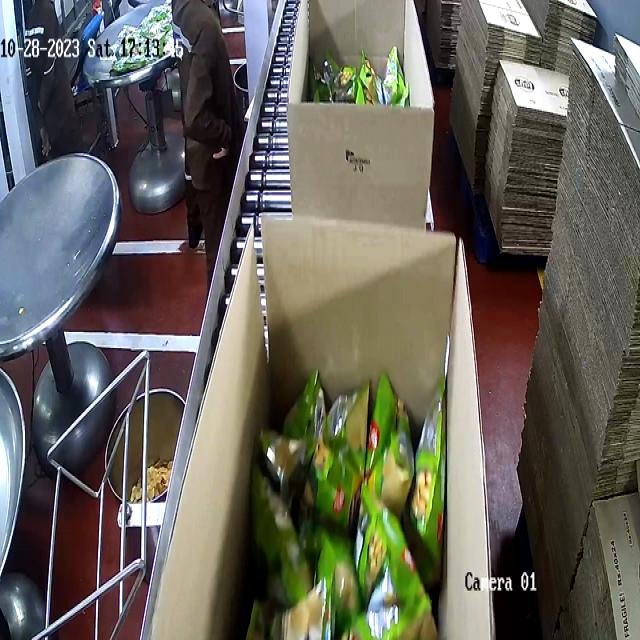YOGURT_HERB: (247, 366, 447, 638)
